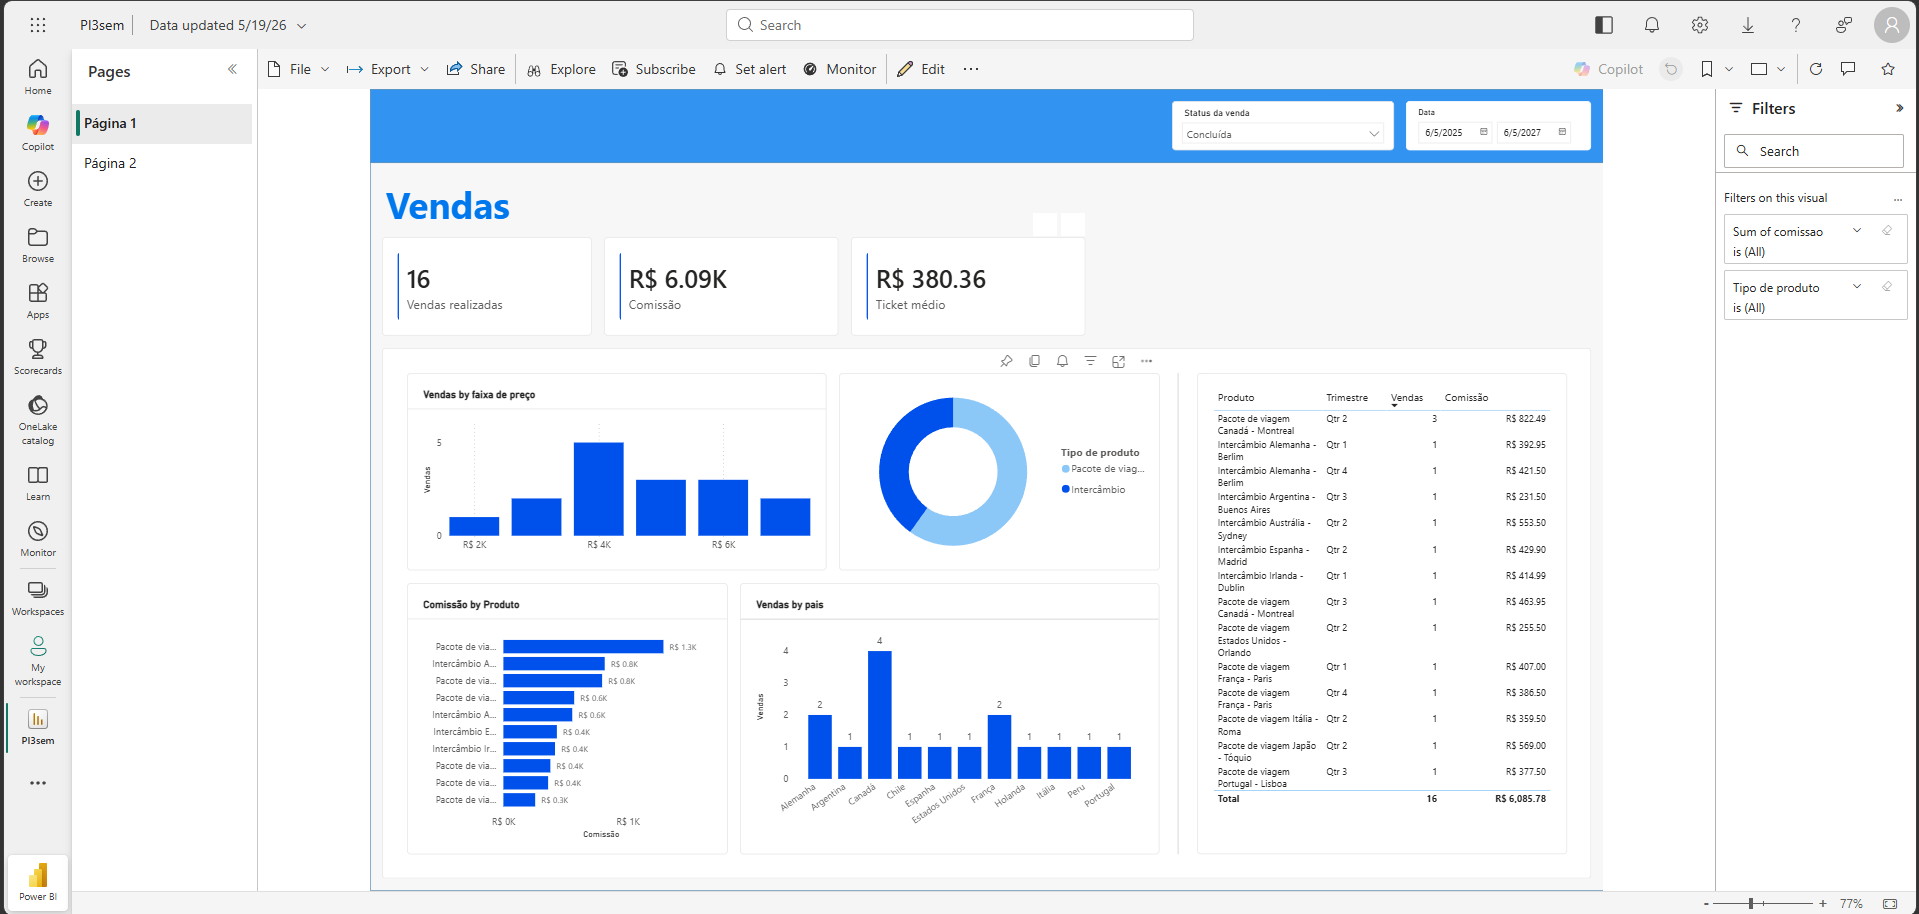

The dashboard page shown, as its layout file describes it:
{"tool":"powerbi","page":{"name":"Página 1","canvas":[1600,1040],"ordinal":0},"visuals":[{"type":"shape","box":[0,0,1600,1040],"z":0},{"type":"shape","box":[16,336,1568,688],"z":1000},{"type":"cardVisual","fields":{"Data":["Sum(public vendas.comissao)"]},"box":[304,192,304,128],"z":2000},{"type":"clusteredBarChart","fields":{"Category":["public produto.nome_produto"],"Y":["Sum(public vendas.comissao)"]},"box":[48,640,416,352],"z":3000},{"type":"donutChart","fields":{"Category":["public produto.tipo"],"Y":["Sum(public vendas.comissao)"]},"box":[608,368,416,256],"z":4000},{"type":"columnChart","fields":{"Category":["public paises.pais","public produto.cidade"],"Y":["Count(public vendas.id_venda)"]},"box":[480,640,544,352],"z":5000},{"type":"columnChart","fields":{"Y":["Count(public vendas.id_venda)"],"Category":["public produto.valor_minimo (compartimentos)"]},"box":[48,368,544,256],"z":6000},{"type":"shape","box":[0,0,1616,96],"z":7000},{"type":"cardVisual","fields":{"Data":["CountNonNull(public vendas.id_venda)"]},"box":[16,192,272,128],"z":8000},{"type":"slicer","fields":{"Values":["public vendas.data_venda"]},"box":[1344,16,240,64],"z":9000},{"type":"textbox","box":[16,112,304,80],"z":10000},{"type":"tableEx","fields":{"Values":["public produto.nome_produto","public vendas.data_venda.Variation.Hierarquia de datas.Trimestre","CountNonNull(public vendas.id_venda)","Sum(public vendas.comissao)"]},"box":[1072,368,480,624],"z":11000},{"type":"shape","box":[1040,368,16,624],"z":12000},{"type":"cardVisual","fields":{"Data":["public vendas.Ticket médio"]},"box":[624,192,304,128],"z":13000},{"type":"slicer","fields":{"Values":["public vendas.status_venda"]},"box":[1040,16,288,64],"z":14000}]}

Visuals, with their boxes on the page's 1600x1040 design canvas (x1, y1, x2, y2). These are canvas units, not pixel positions in the 1919x914 screenshot, which may show the page scaled, cropped or inside an application window:
shape: rect(0, 0, 1600, 1040)
shape: rect(16, 336, 1584, 1024)
cardVisual - Sum(public vendas.comissao): rect(304, 192, 608, 320)
clusteredBarChart - public produto.nome_produto x Sum(public vendas.comissao): rect(48, 640, 464, 992)
donutChart - public produto.tipo x Sum(public vendas.comissao): rect(608, 368, 1024, 624)
columnChart - public paises.pais x public produto.cidade: rect(480, 640, 1024, 992)
columnChart - Count(public vendas.id_venda) x public produto.valor_minimo (compartimentos): rect(48, 368, 592, 624)
shape: rect(0, 0, 1616, 96)
cardVisual - CountNonNull(public vendas.id_venda): rect(16, 192, 288, 320)
slicer - public vendas.data_venda: rect(1344, 16, 1584, 80)
textbox: rect(16, 112, 320, 192)
tableEx - public produto.nome_produto x public vendas.data_venda.Variation.Hierarquia de datas.Trimestre: rect(1072, 368, 1552, 992)
shape: rect(1040, 368, 1056, 992)
cardVisual - public vendas.Ticket médio: rect(624, 192, 928, 320)
slicer - public vendas.status_venda: rect(1040, 16, 1328, 80)
